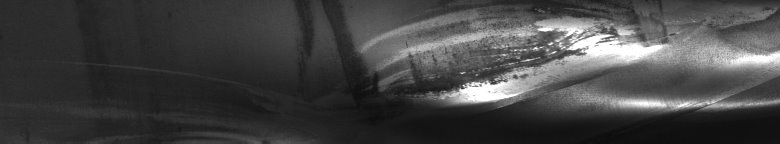ke: (375, 8, 776, 120)
